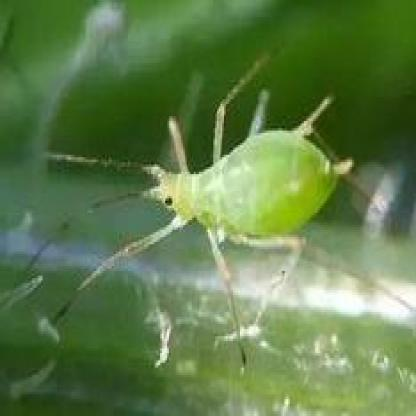aphid: (73, 66, 362, 319)
